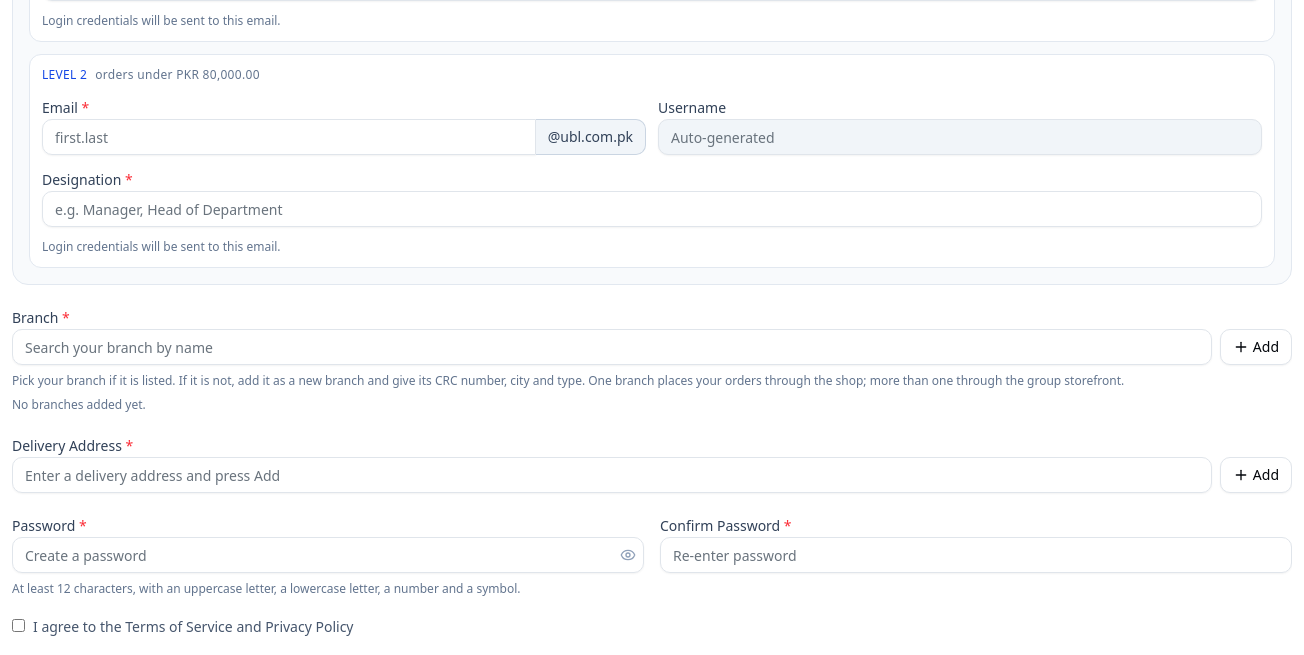
Test: DepartmentSignupForm › gives the name back to the search box when the new branch is cancelled
(page scrolled)
Type "Korangi Depot" into the field with id "signup-branch" at (612, 347), box [12, 329, 1212, 365]
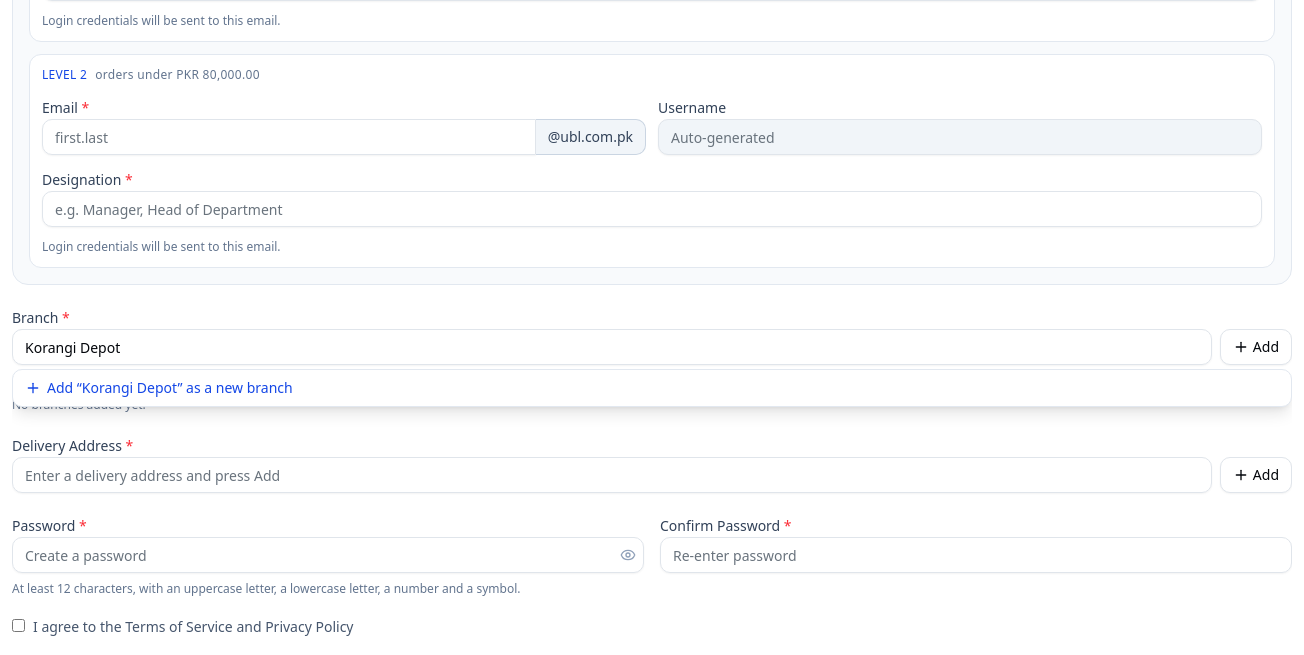
Click the option "Add “Korangi Depot” as a new branch" at (64, 388), box [13, 370, 1291, 406]
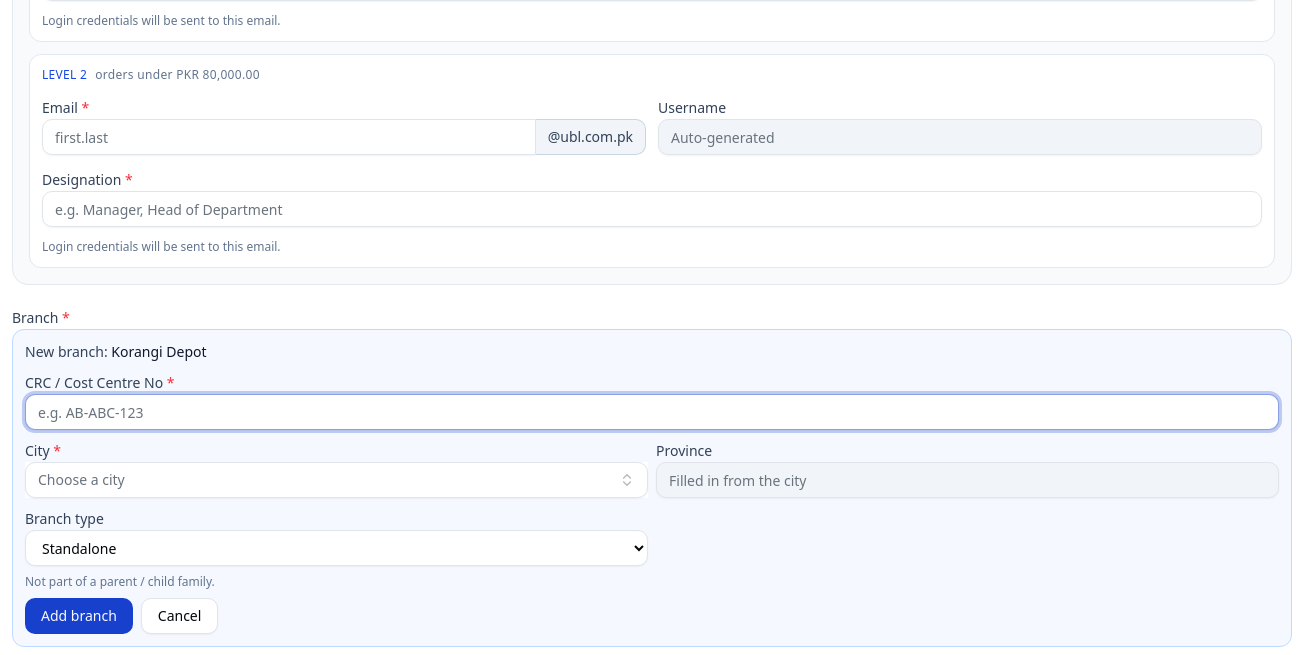
Click the button "Cancel" at (180, 616), box [141, 598, 218, 634]
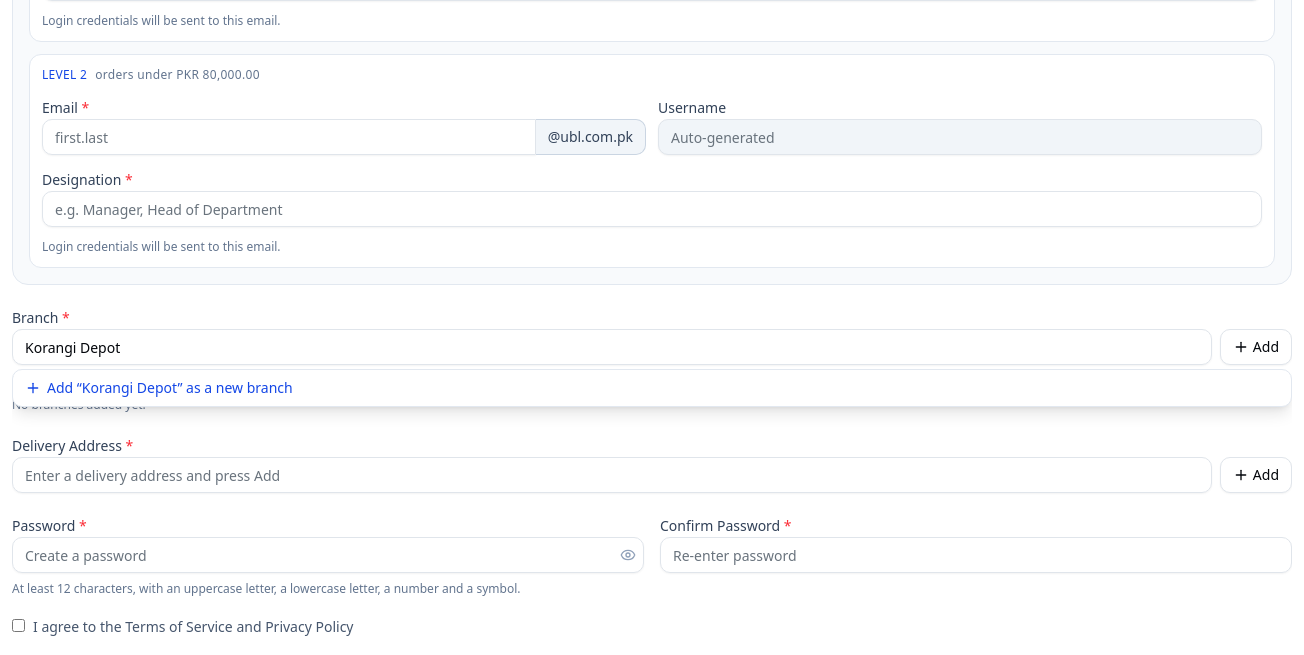
Expected: the text "No branches added yet." is shown, [12, 396, 146, 413]
Result: the field with id "signup-branch" holds "Korangi Depot" at [12, 329, 1212, 365]
